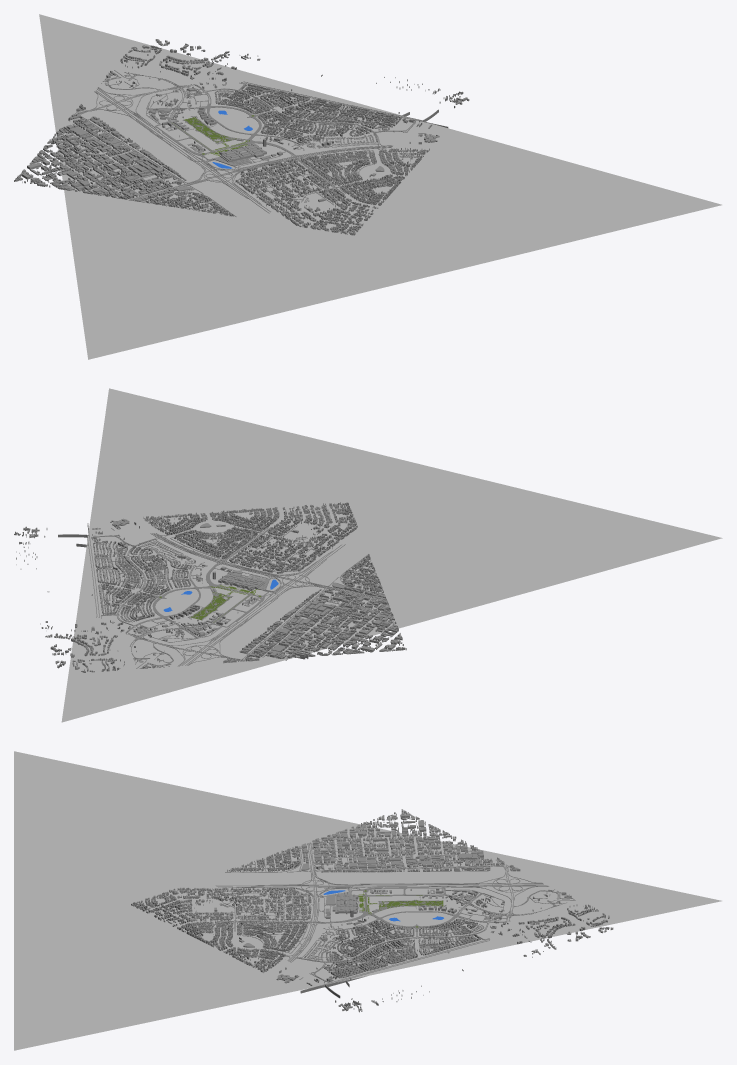
File: hyde_floor.glb
3 views of the same model, one above another, from view 1: azimuth 30°, elevation 25°; view 2: azimuth 150°, elevation 25°; view 3: azimuth 270°, elevation 25° (orthographic). The views are drawn at different scales.
Visible parts, largest first — view 1: land, Build, road, tree; view 2: land, Build, road; view 3: land, Build, road, tree.
Boxes of the visible parts, <box> form: land: <box>39,14,721,359</box>; Build: <box>14,39,469,235</box>; road: <box>51,70,448,216</box>; tree: <box>172,115,253,156</box>; land: <box>61,388,722,722</box>; Build: <box>14,502,406,672</box>; road: <box>58,523,391,668</box>; land: <box>14,751,721,1050</box>; Build: <box>131,809,613,1012</box>; road: <box>202,834,575,998</box>; tree: <box>358,890,443,927</box>.
Bounding box in the file's own units: 9624 × 162 × 9624.
7 materials, 2 textured.
